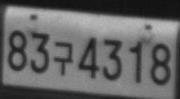1: (126, 41, 149, 83)
3: (101, 38, 122, 81), (29, 32, 50, 73)
4: (77, 36, 99, 79)
8: (150, 42, 172, 86), (6, 28, 27, 71)
구: (53, 40, 74, 76)
